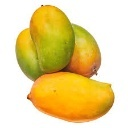mango: (27, 72, 115, 123)
